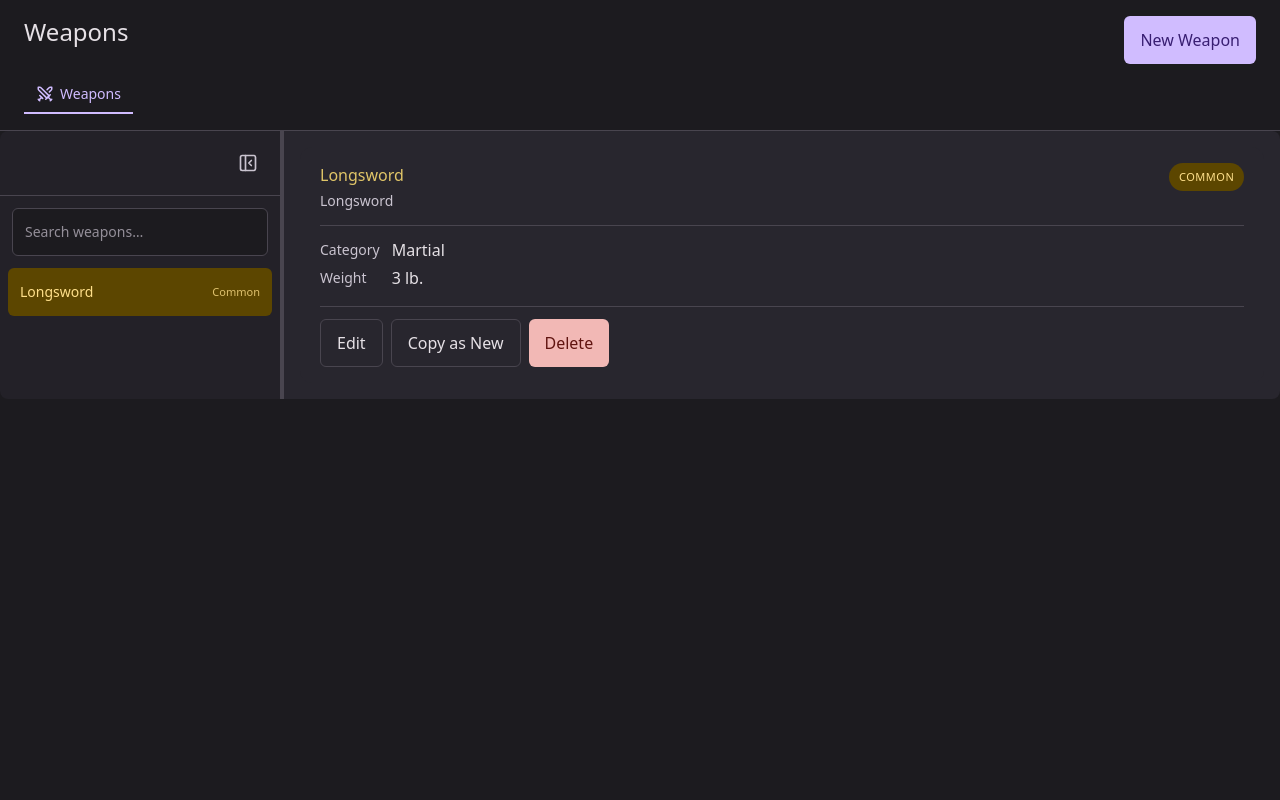
VW0 standard browsers › WeaponBrowser: opens editor on New Weapon click
Expected: the heading "Longsword" is shown, [320, 163, 404, 187]
Step 1. Click the button "New Weapon" → (1190, 40), box [1124, 16, 1256, 64]
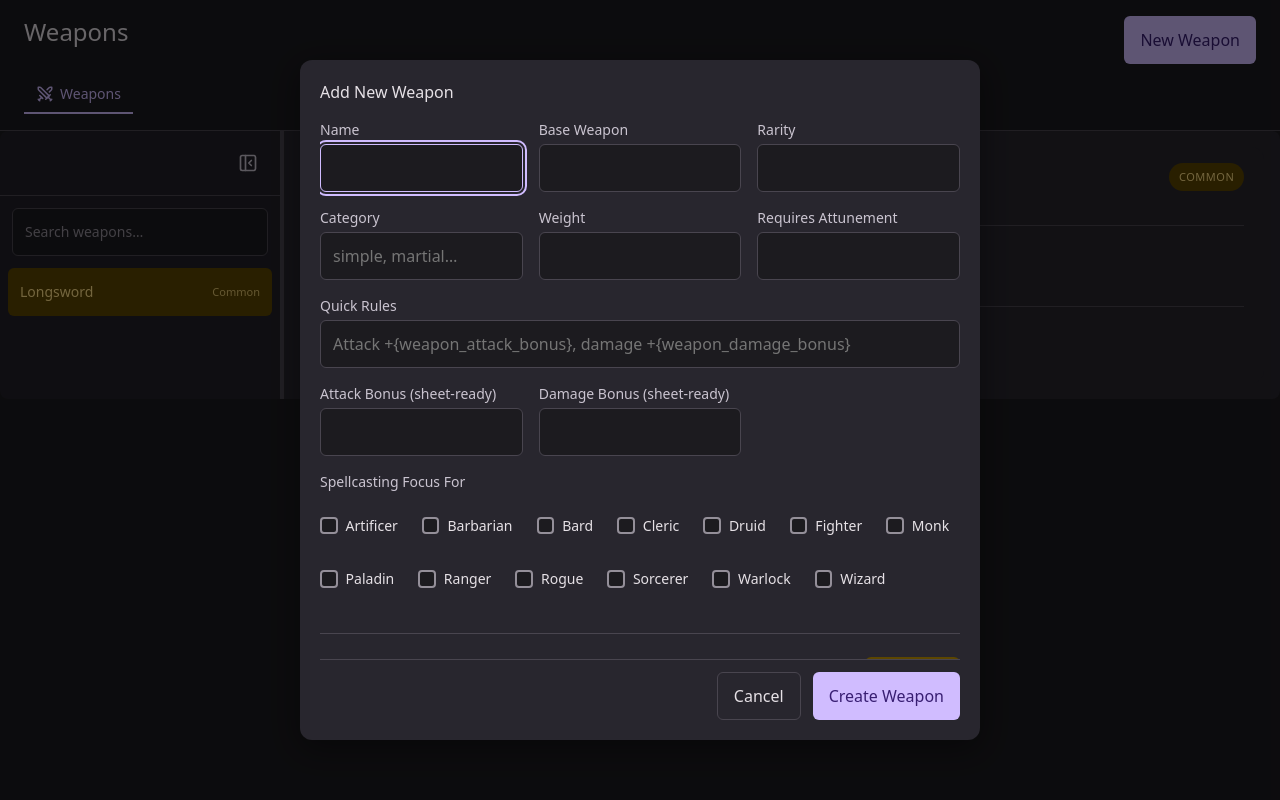
Expected: the dialog is shown, [300, 60, 980, 740]
